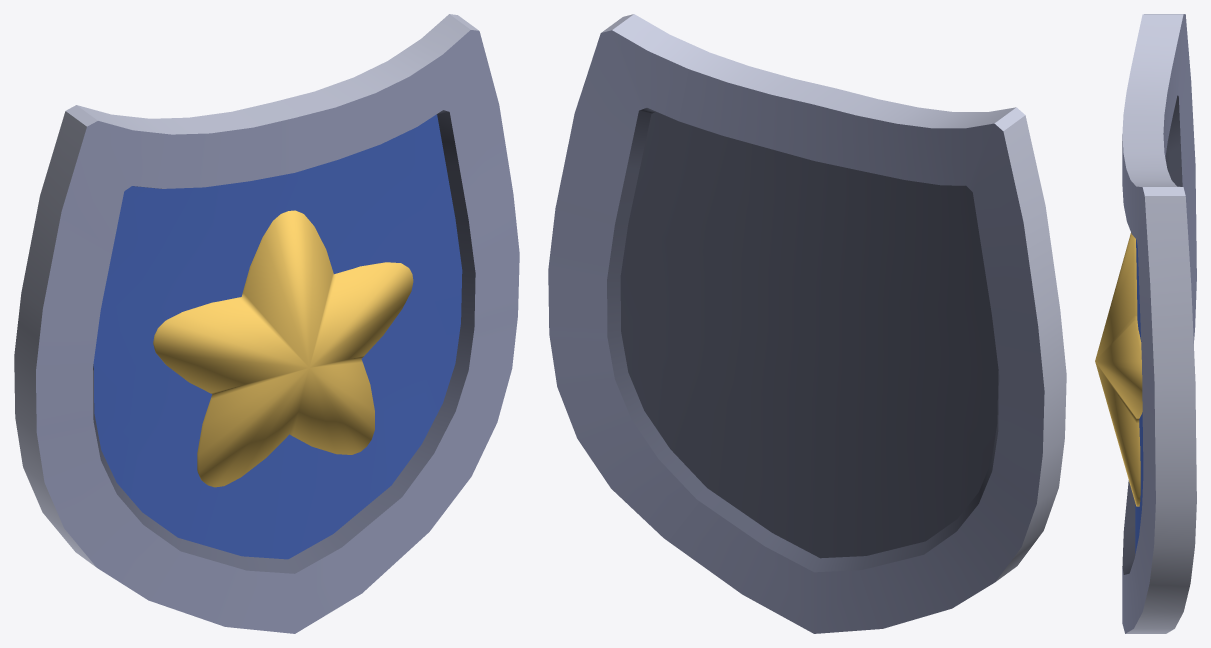
File: Item_Shield.FBX
3 renders of one model, left to right at view 1: azimuth 30°, elevation 25°; view 2: azimuth 150°, elevation 25°; view 3: azimuth 270°, elevation 25°, orthographic. The views are drawn at different scales.
Visible parts, largest first — view 1: Item_Shield; view 2: Item_Shield; view 3: Item_Shield.
Boxes of the visible parts, x1=… form: Item_Shield: x1=14, y1=14, x2=519, y2=633; Item_Shield: x1=548, y1=14, x2=1066, y2=633; Item_Shield: x1=1095, y1=14, x2=1196, y2=633.
Bounding box in the file's own units: 4.17 × 4.54 × 0.802.
